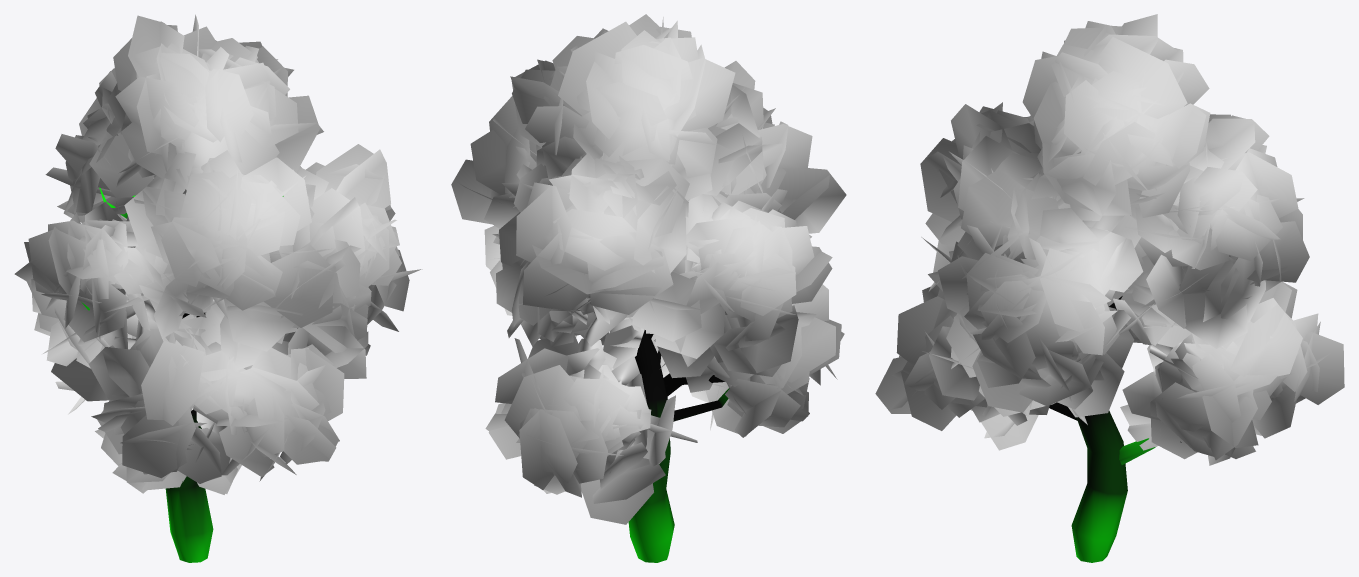
The model's file is SM_OakTree3.FBX.
The picture shows the model from 3 angles, left to right: view 1: azimuth 30°, elevation 25°; view 2: azimuth 150°, elevation 25°; view 3: azimuth 270°, elevation 25°; orthographic projection. The views are drawn at different scales.
Parts seen in each view (by area): view 1: SM_OakTree3_LOD0; view 2: SM_OakTree3_LOD0; view 3: SM_OakTree3_LOD0.
Part boxes in pixels (x1,y1,x2,y2): SM_OakTree3_LOD0: (14, 14, 422, 562); SM_OakTree3_LOD0: (451, 14, 846, 562); SM_OakTree3_LOD0: (875, 14, 1344, 562).
Bounding box in the file's own units: 1253 × 1437 × 1794.
